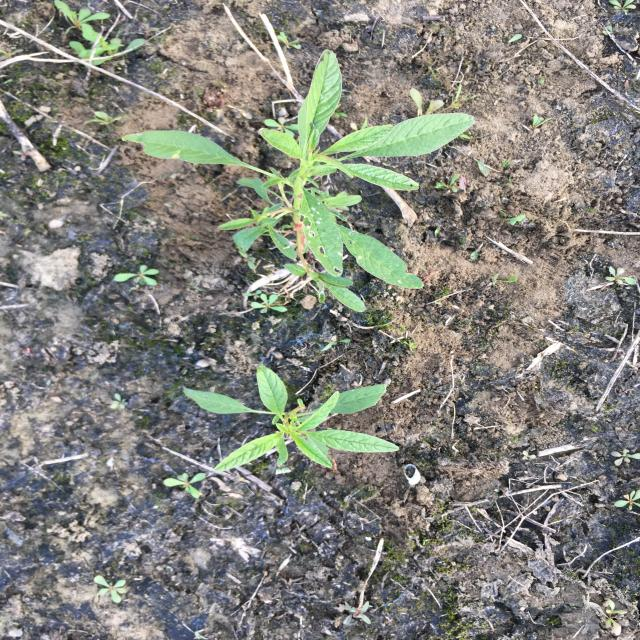Carpetweed: (53, 3, 149, 68), (159, 468, 211, 502), (90, 574, 132, 607), (245, 288, 289, 319), (111, 264, 162, 290)
Waterhemp: (118, 48, 478, 314), (180, 363, 402, 474)
